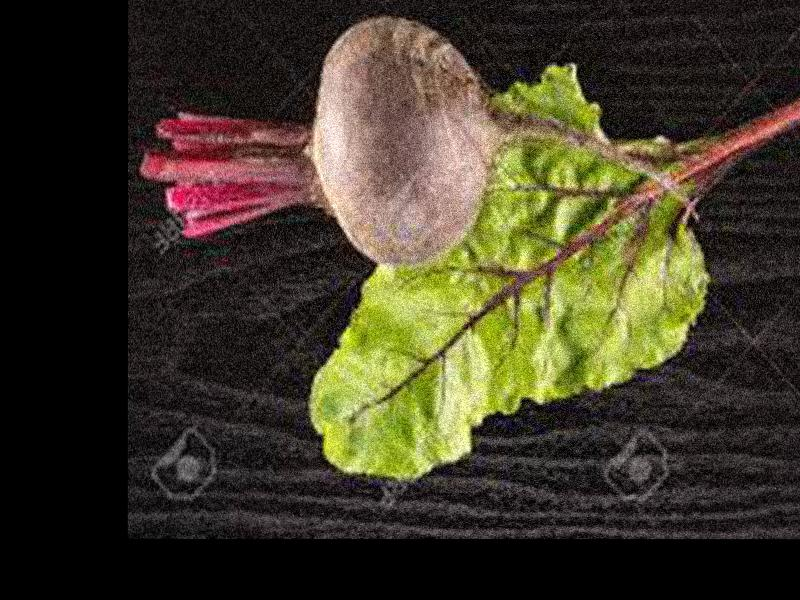Beet: (139, 16, 697, 266)
